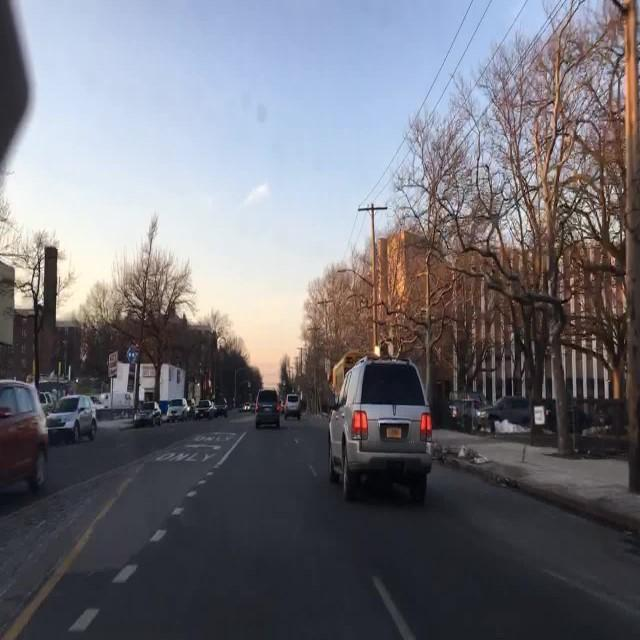normal: (325, 357, 432, 500), (0, 377, 49, 492), (44, 395, 98, 443), (256, 398, 283, 429), (162, 399, 192, 423), (133, 403, 163, 427), (194, 400, 217, 420), (283, 395, 301, 418), (239, 404, 252, 414)
